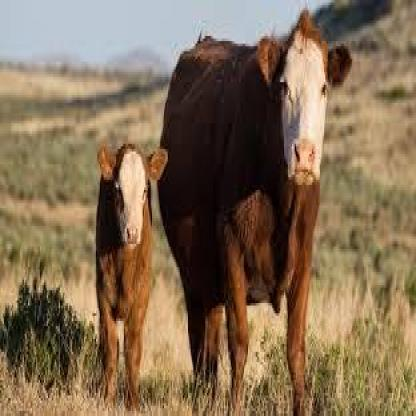cow: (158, 10, 354, 416), (95, 144, 168, 408)
